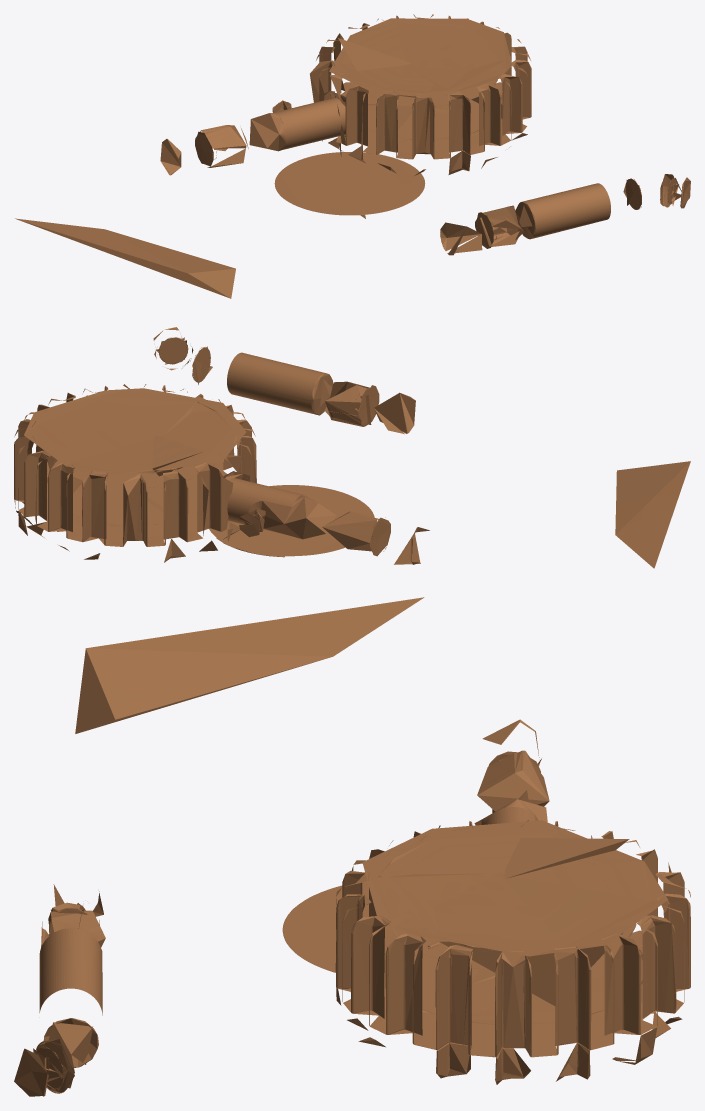
The model's file is serviceTool_gauge_tirePressureDial_a01.glb.
The picture shows the model from 3 angles, top to bottom: view 1: azimuth 30°, elevation 25°; view 2: azimuth 150°, elevation 25°; view 3: azimuth 270°, elevation 25°; orthographic projection. The views are drawn at different scales.
Visible parts, largest first — view 1: geometry_0; view 2: geometry_0; view 3: geometry_0.
Part boxes in pixels (box(x1,y1,x2,y2)): geometry_0: box(15, 14, 690, 298); geometry_0: box(14, 327, 690, 568); geometry_0: box(14, 597, 690, 1096).
Size of the model in its own units: 0.42 by 0.0747 by 0.2669.
1 material, 1 textured.
